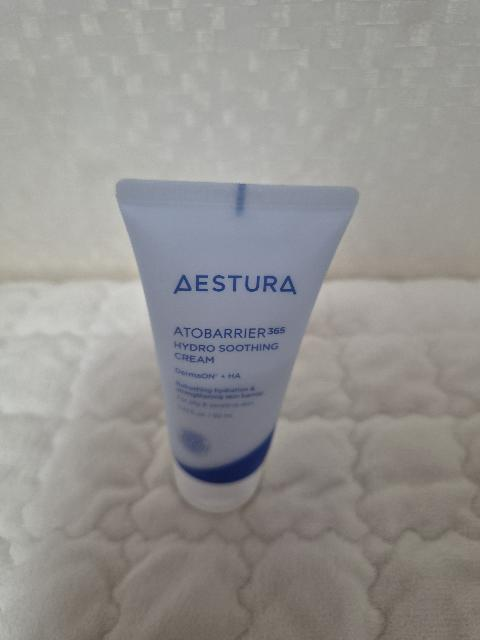handcream: (115, 178, 360, 512)
